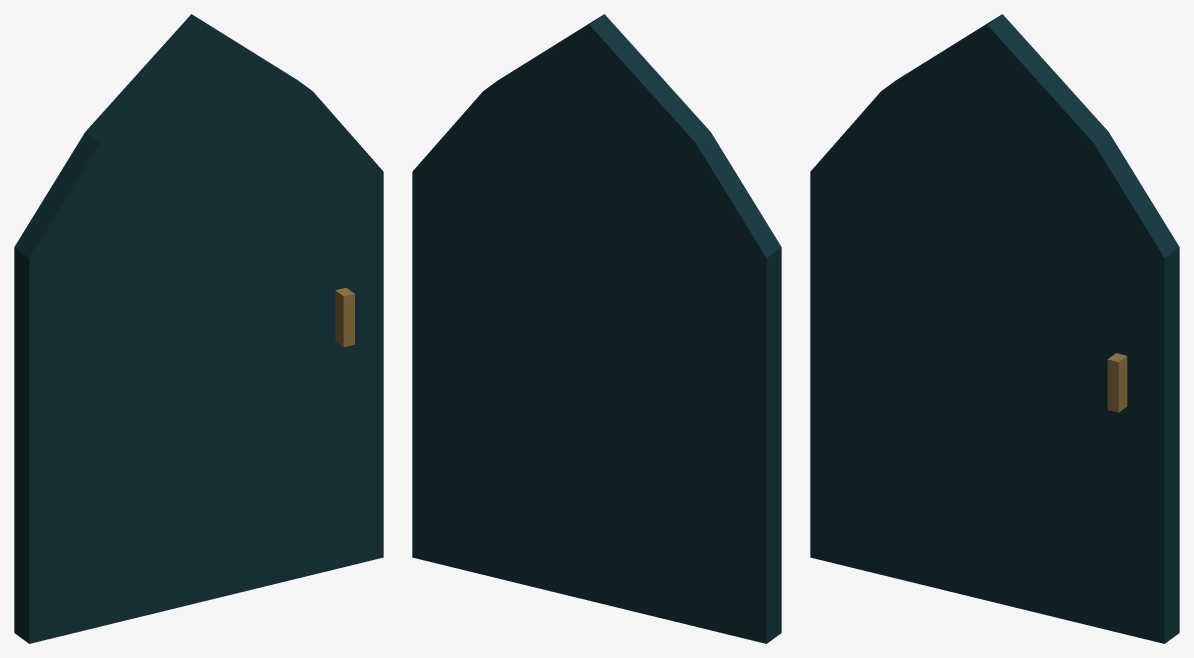
Rendered from WP_D02_single_door_v02.glb.
3 views of the same model, side by side, from view 1: azimuth 30°, elevation 25°; view 2: azimuth 150°, elevation 25°; view 3: azimuth 330°, elevation 25° (orthographic).
Visible parts, largest first — view 1: DoorLeaf; view 2: DoorLeaf; view 3: DoorLeaf.
Part boxes in pixels (<box>): DoorLeaf: <box>14,14,383,643</box>; DoorLeaf: <box>412,14,781,643</box>; DoorLeaf: <box>810,14,1179,643</box>.
Size of the model in its own units: 1.9 by 2.95 by 0.22.
